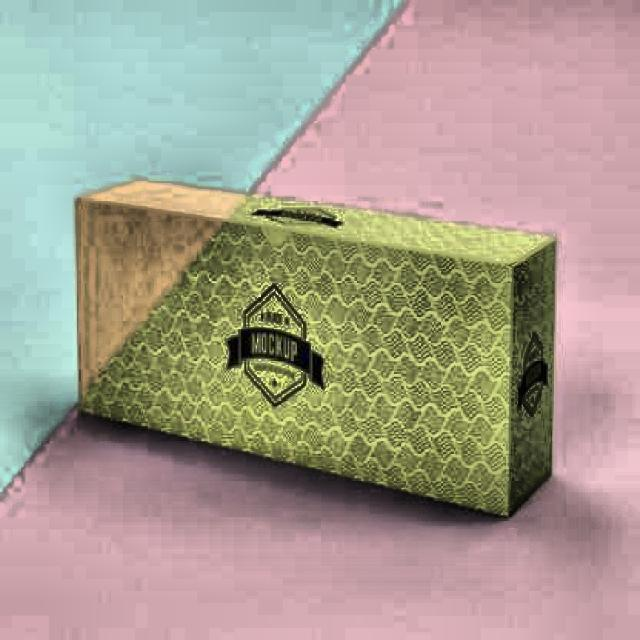Cardbox: (55, 166, 568, 534)
